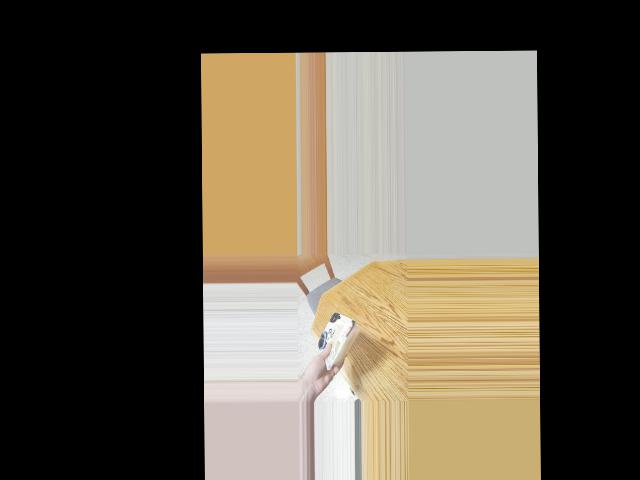cheese: (310, 314, 365, 361)
